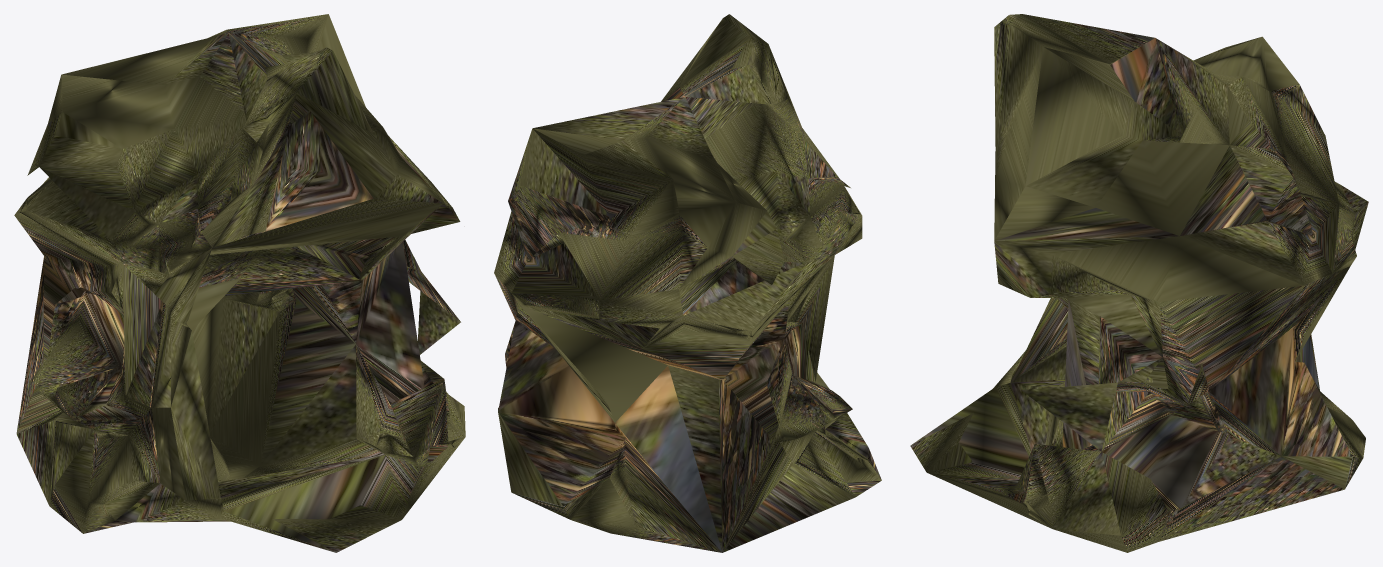
Rendered from Whimsical_Hobbit_Dwel.glb.
3 views of the same model, side by side, from view 1: azimuth 30°, elevation 25°; view 2: azimuth 150°, elevation 25°; view 3: azimuth 270°, elevation 25° (orthographic). The views are drawn at different scales.
Visible parts, largest first — view 1: Whimsical_Hobbit_Dwel; view 2: Whimsical_Hobbit_Dwel; view 3: Whimsical_Hobbit_Dwel.
Boxes of the visible parts, box(x1,y1,x2,y2) form: Whimsical_Hobbit_Dwel: box(14, 14, 465, 552); Whimsical_Hobbit_Dwel: box(494, 14, 881, 552); Whimsical_Hobbit_Dwel: box(910, 14, 1368, 552).
Bounding box in the file's own units: 1.53 × 1.67 × 1.52.
Materials: 1 (1 with a texture image).
